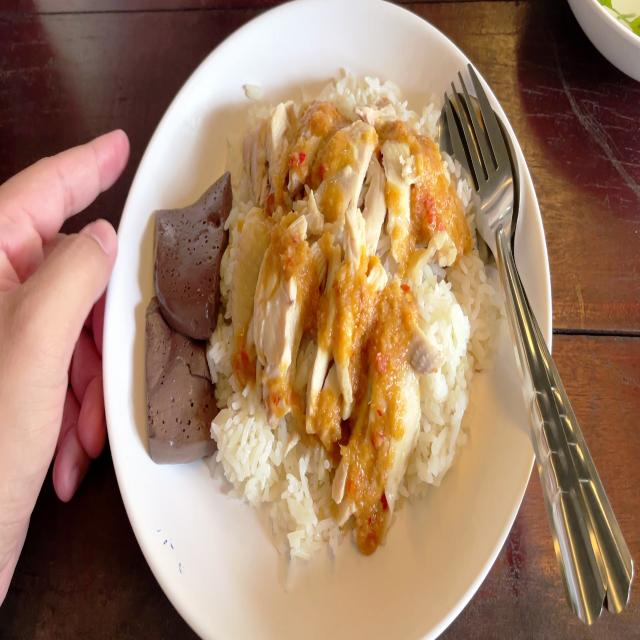boiled_chicken: (248, 107, 433, 457)
boiled_chicken_blood_jelly: (145, 154, 236, 333), (133, 293, 223, 458)
chicken_rice: (141, 72, 495, 529)
